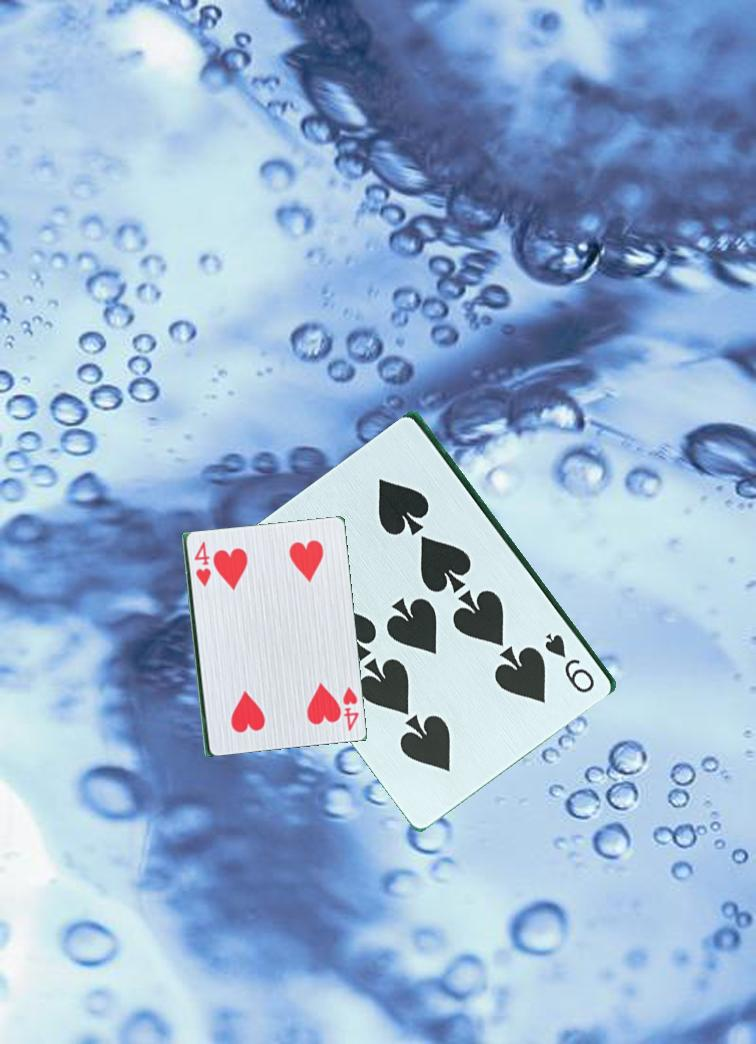4h: (335, 679, 362, 738), (190, 538, 212, 590)
9s: (542, 629, 599, 697)
